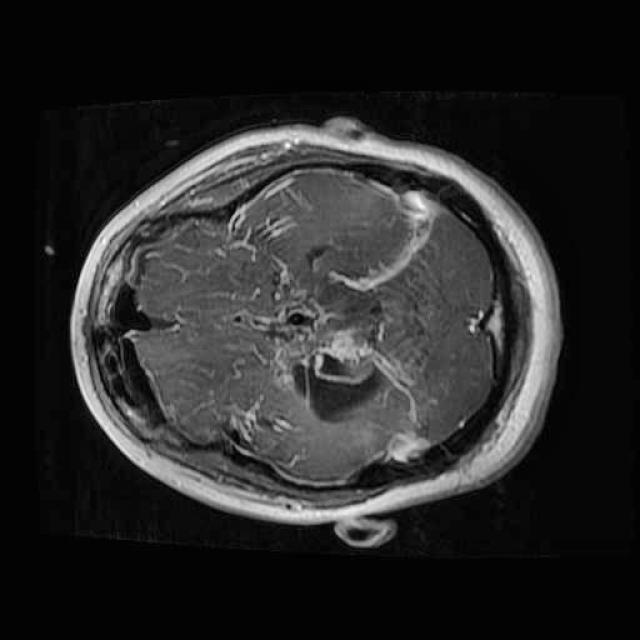Non-Tumor: (264, 272, 441, 445)
